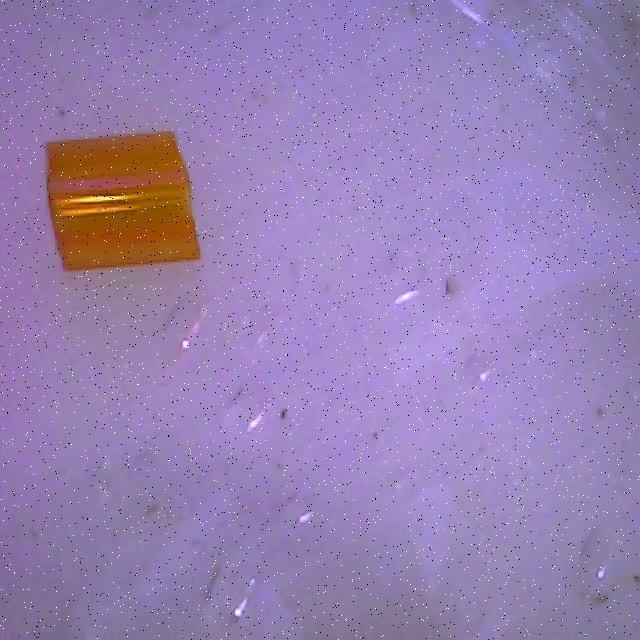fragments: (41, 127, 200, 273)
